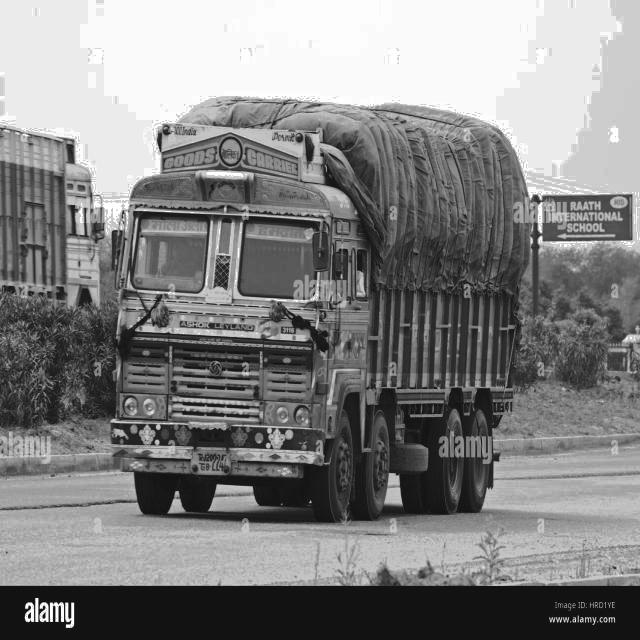HCV: (99, 88, 537, 524)
